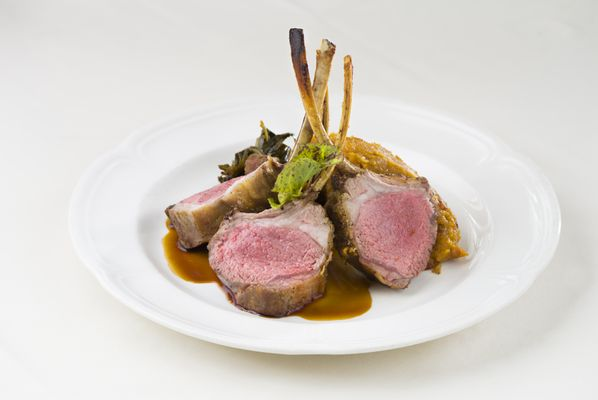curry: (5, 5, 587, 390)
